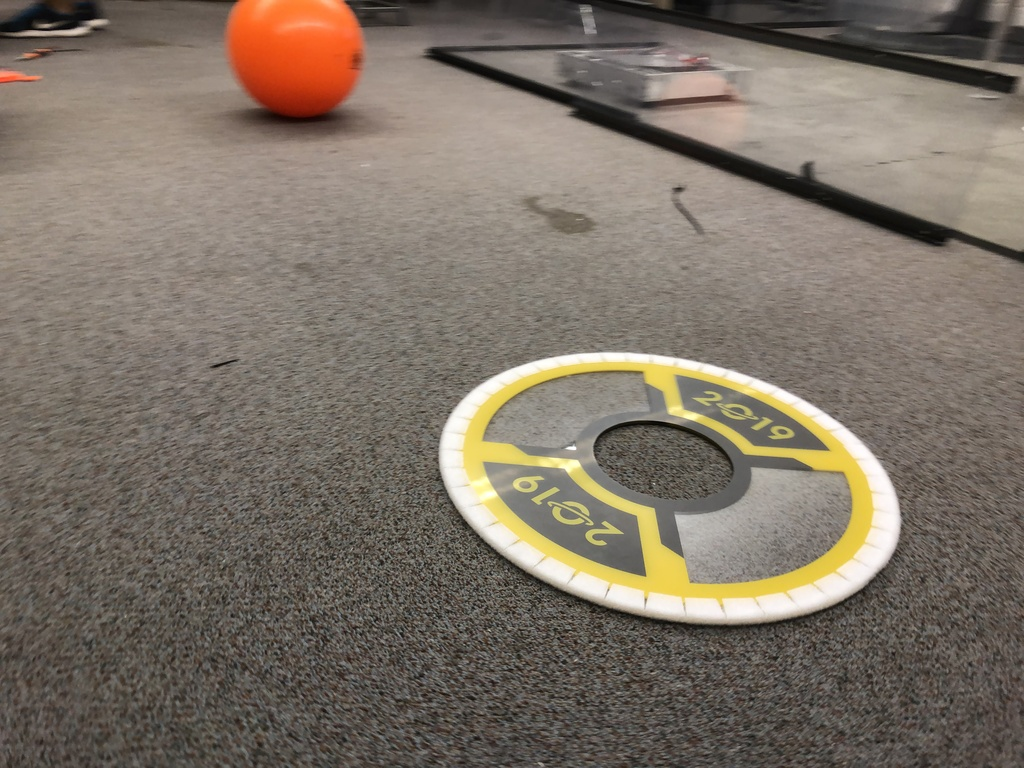hatch_panel: (432, 340, 940, 640)
